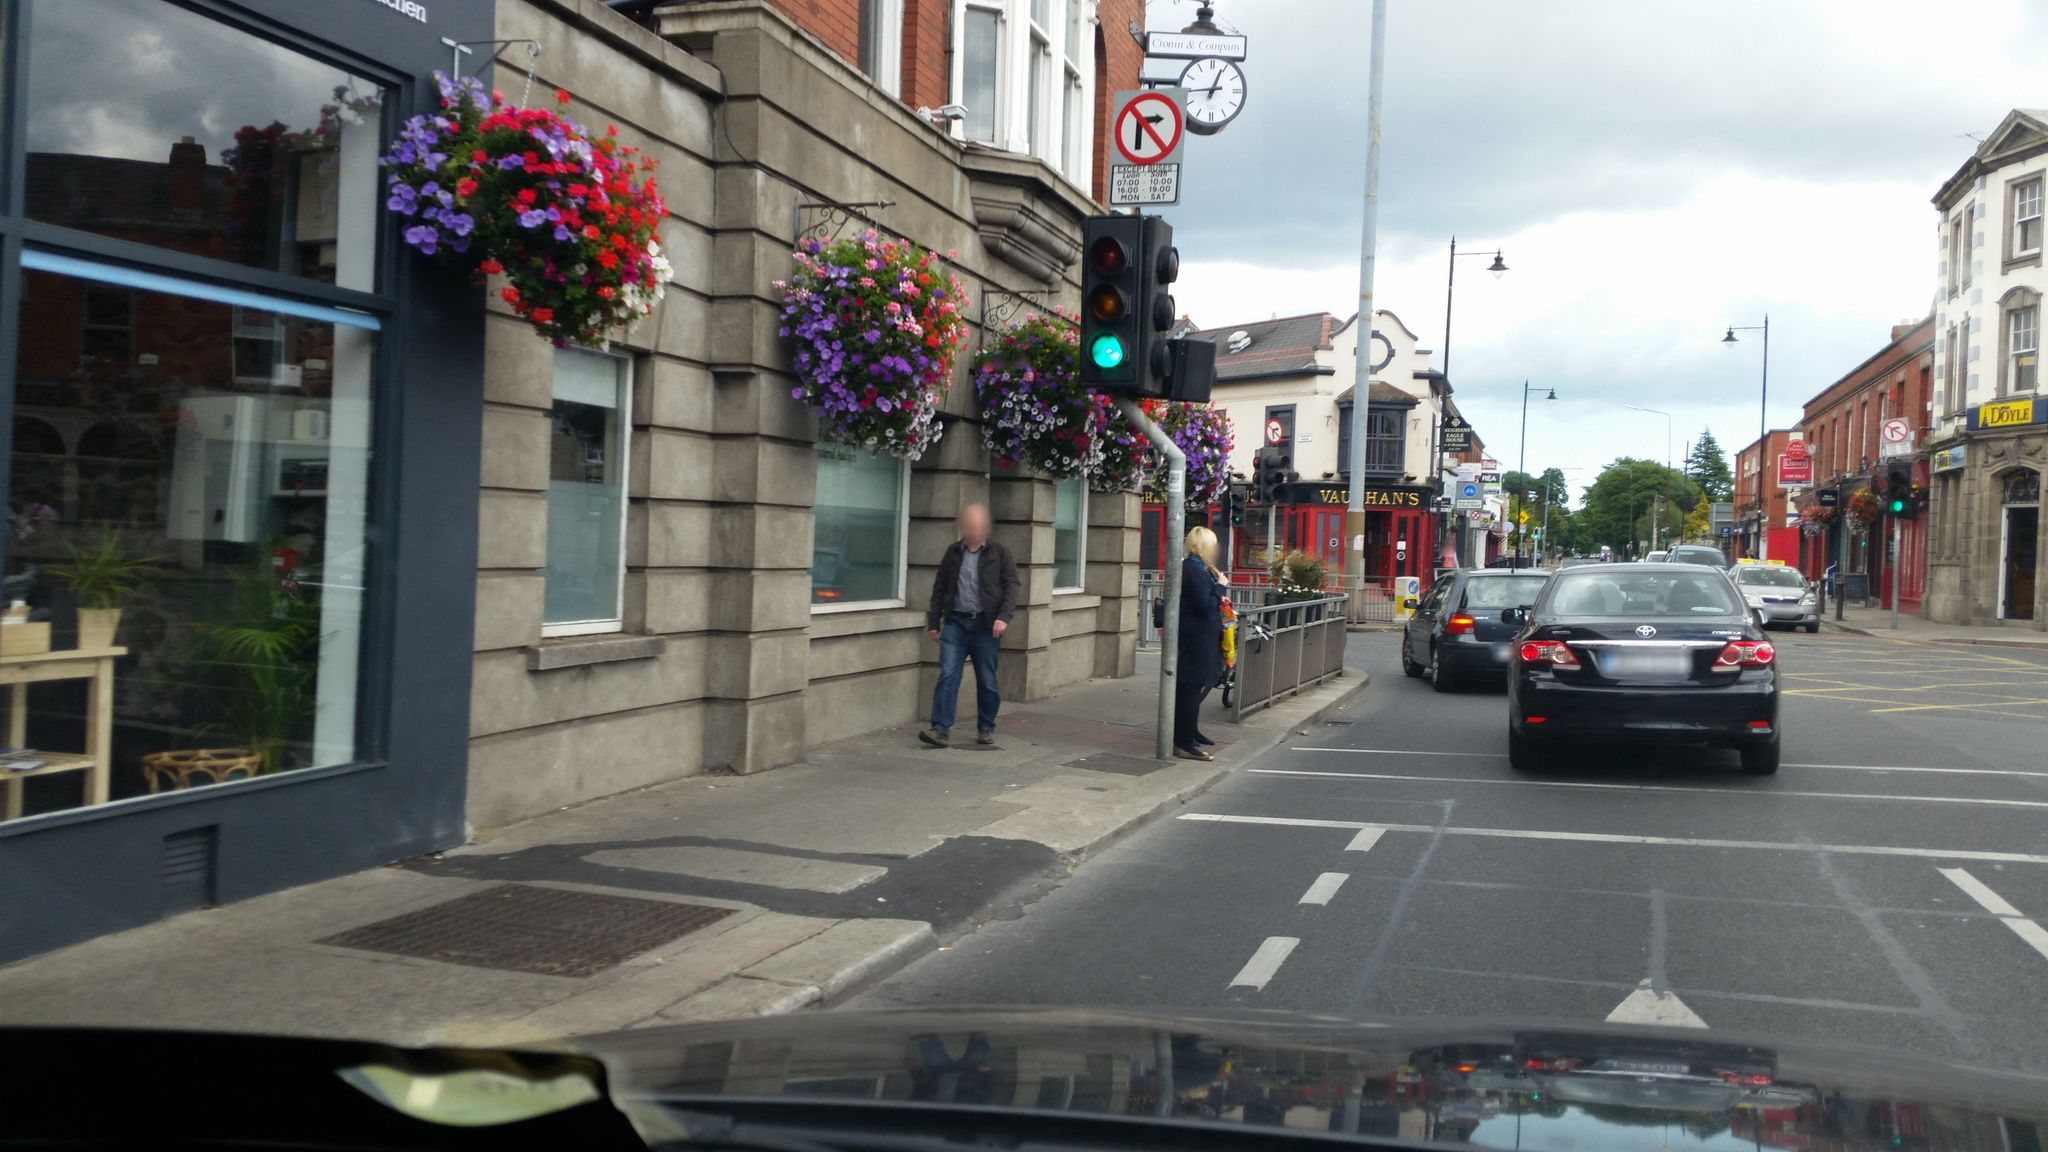property sign: (1762, 440, 1819, 501)
